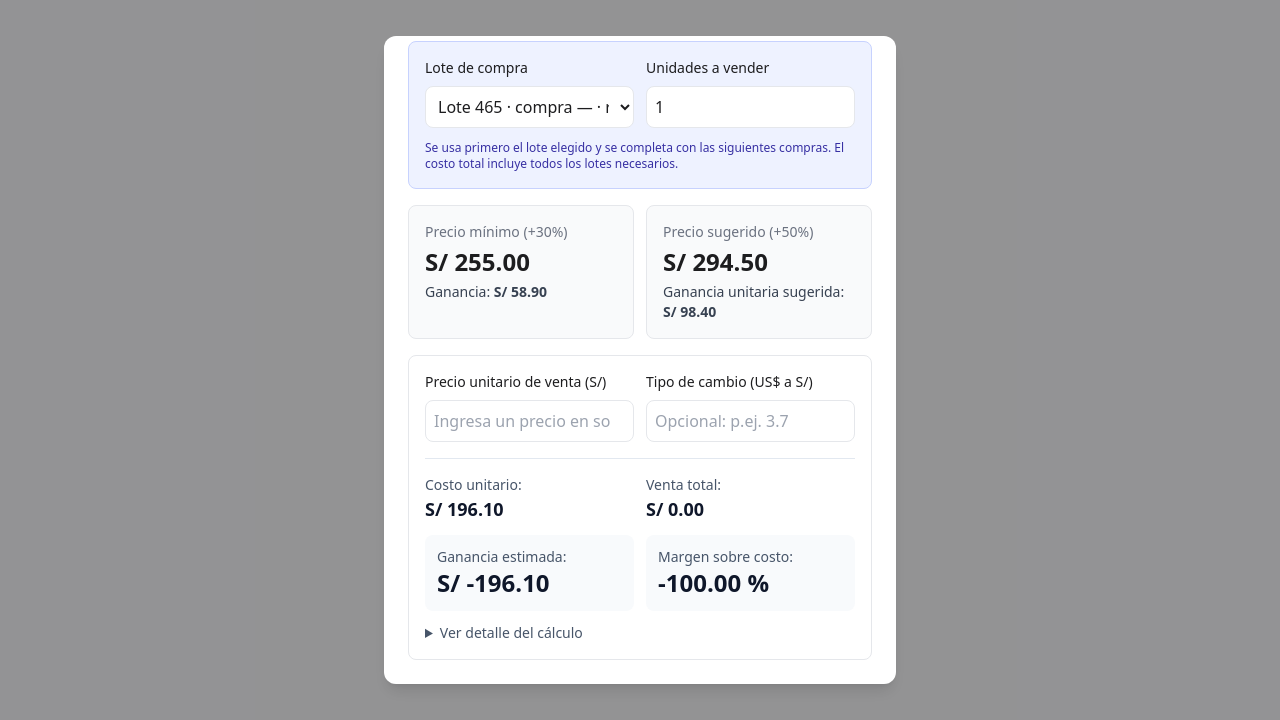
Test: accesorio simple USD con envío 0 muestra solo los datos de compra aplicables
This screenshot has width=1280, height=720.
(page scrolled)
Expected: the text "Costo unitario:" is shown, top-left (425, 475), bottom-right (522, 494)
Expected: the text "Ganancia estimada:" is shown, top-left (437, 547), bottom-right (566, 566)
Click the heading "Ver detalle del cálculo" at [511, 632], box top-left (440, 623), bottom-right (583, 642)
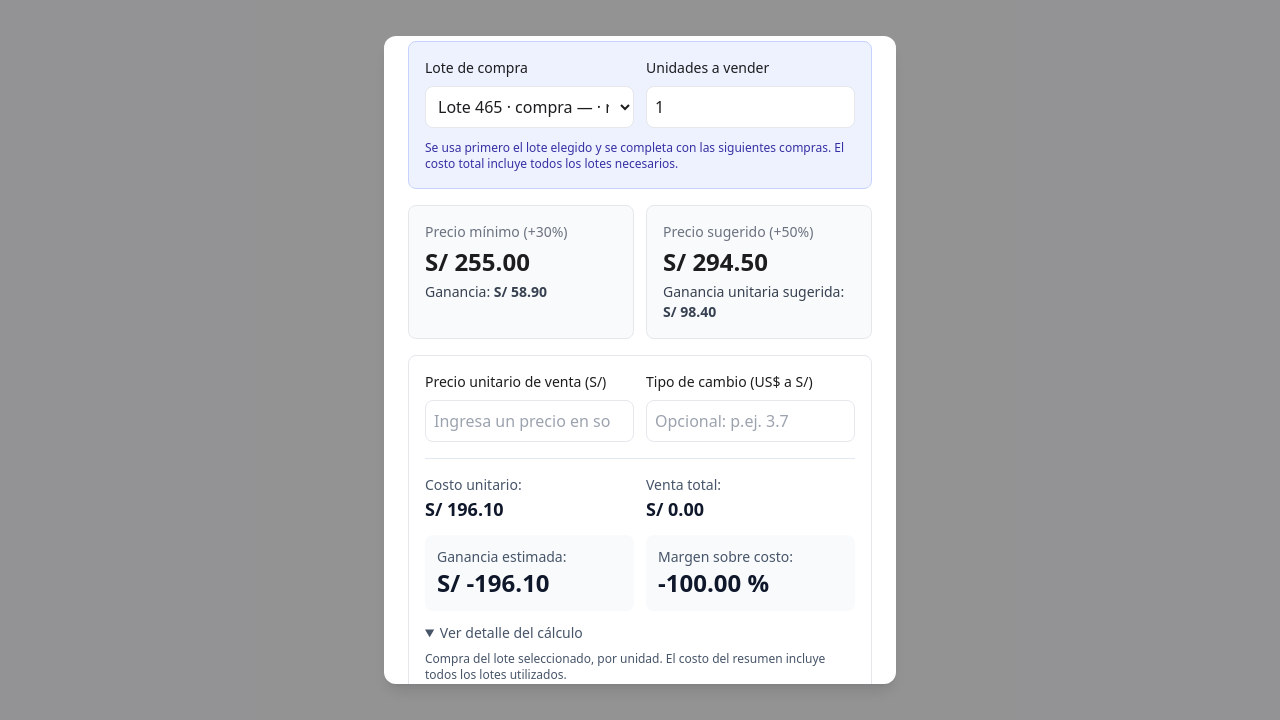
Replace the text in the number field labelled "Unidades a vender" with "2" at [750, 107], box top-left (646, 86), bottom-right (855, 128)
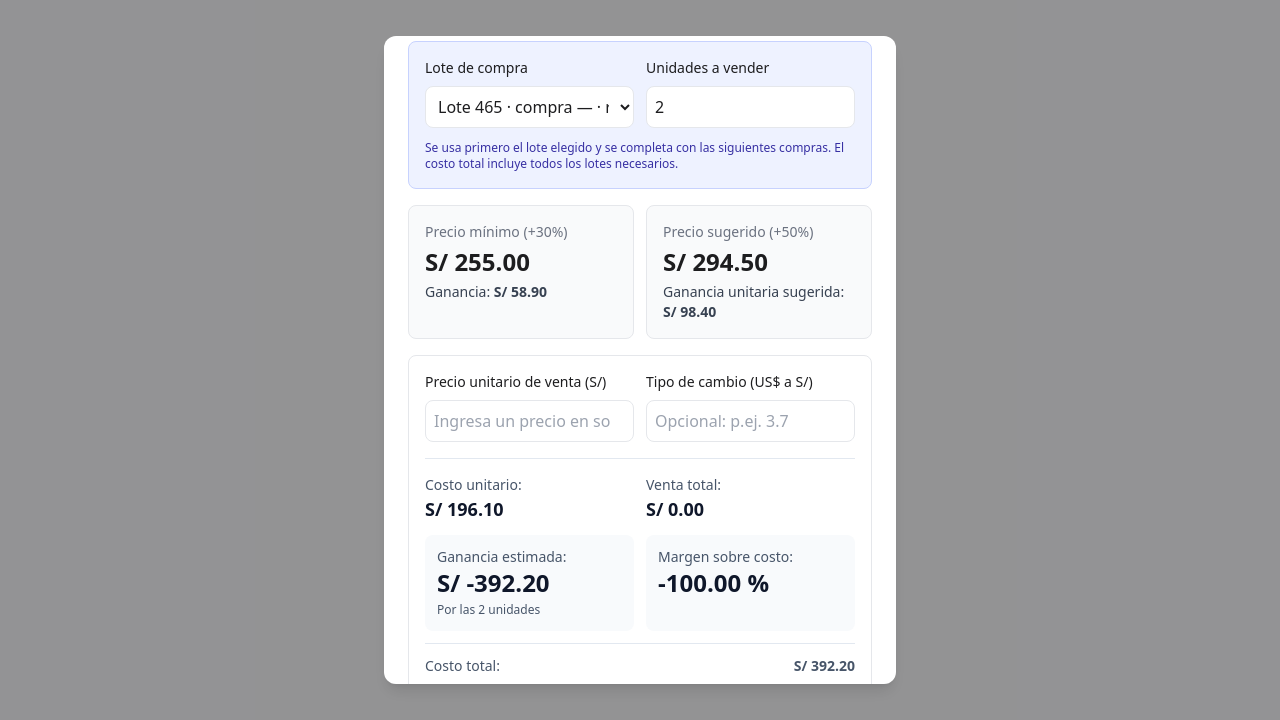
Expected: the text "Venta total:" is shown, top-left (646, 475), bottom-right (721, 494)
Expected: the text "Por las 2 unidades" is shown, top-left (437, 601), bottom-right (540, 618)
Replace the text in the number field labelled "Unidades a vender" with "1" at [750, 107], box top-left (646, 86), bottom-right (855, 128)
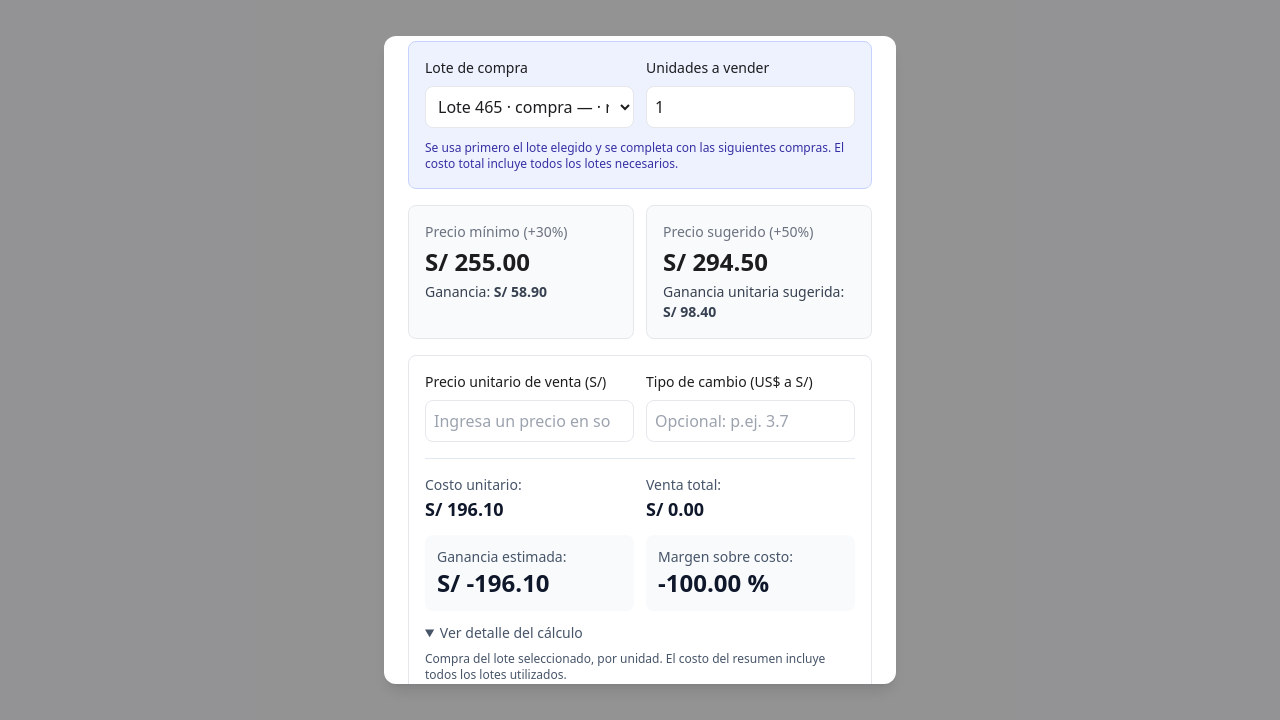
Expected: the text "Venta total:" is shown once, top-left (646, 475), bottom-right (721, 494)
Expected: the text "Costo total:" is gone
